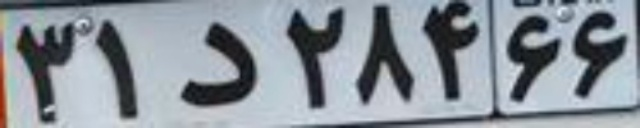1: (88, 19, 138, 118)
2: (287, 6, 345, 108)
3: (12, 20, 85, 122)
4: (424, 1, 482, 100)
6: (571, 8, 629, 97), (503, 15, 559, 102)
8: (353, 4, 417, 105)
dal: (177, 21, 259, 107)
